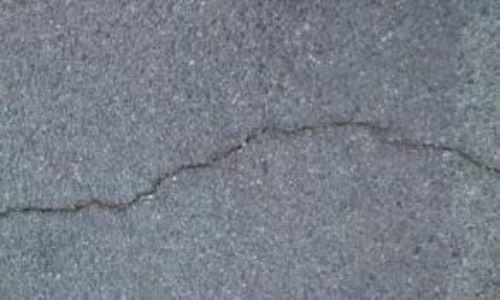crack: (0, 114, 500, 215)
